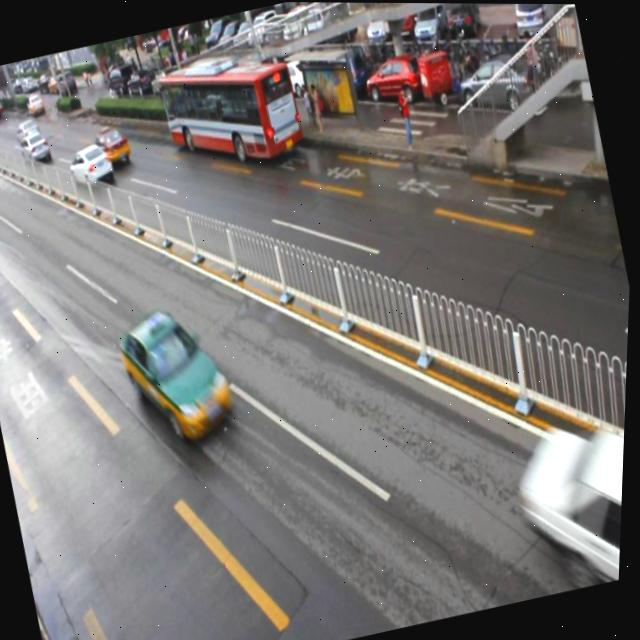car: (509, 404, 628, 596), (114, 297, 244, 451), (65, 140, 117, 194), (87, 124, 135, 173)
van: (155, 45, 309, 180)
